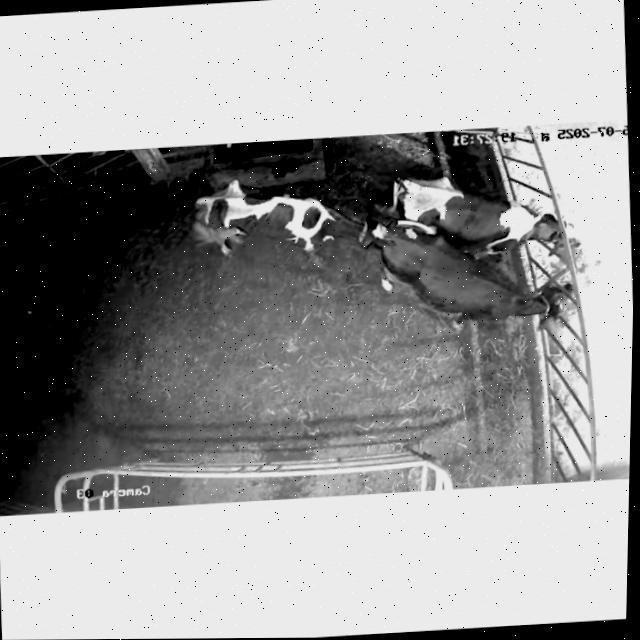stand: (182, 166, 386, 277)
